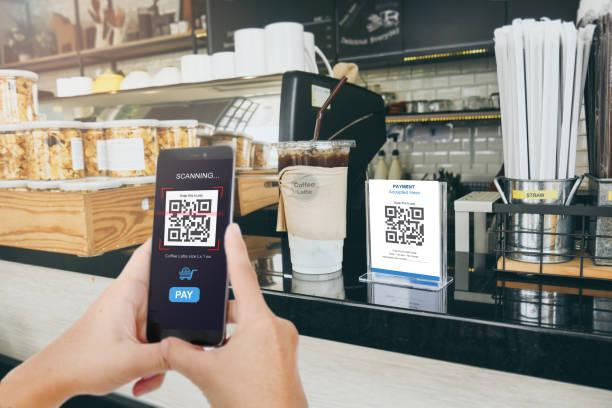Finder pattern: (194, 197, 214, 214), (166, 198, 184, 216), (166, 225, 183, 243), (382, 229, 401, 245), (383, 204, 400, 221), (409, 204, 425, 222)
